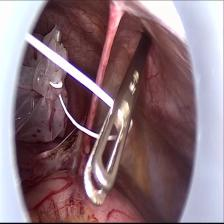Grasper: (72, 32, 155, 215)
Specimen Bag: (14, 22, 74, 153)
